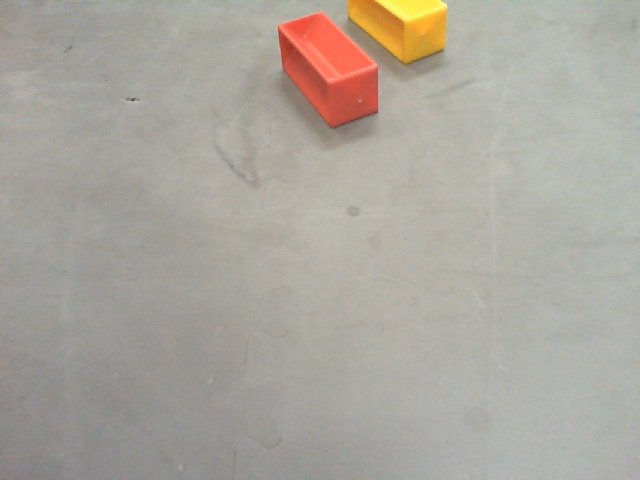RedSample: (275, 14, 380, 130)
YellowSample: (345, 1, 448, 62)
